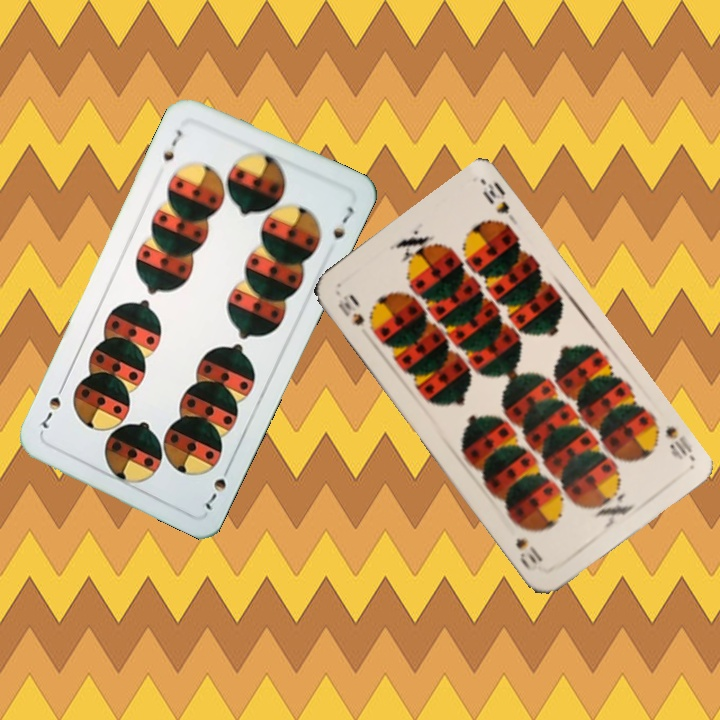S10: (333, 290, 377, 335), (661, 420, 697, 463)
S7: (201, 459, 234, 513), (159, 125, 185, 164)
